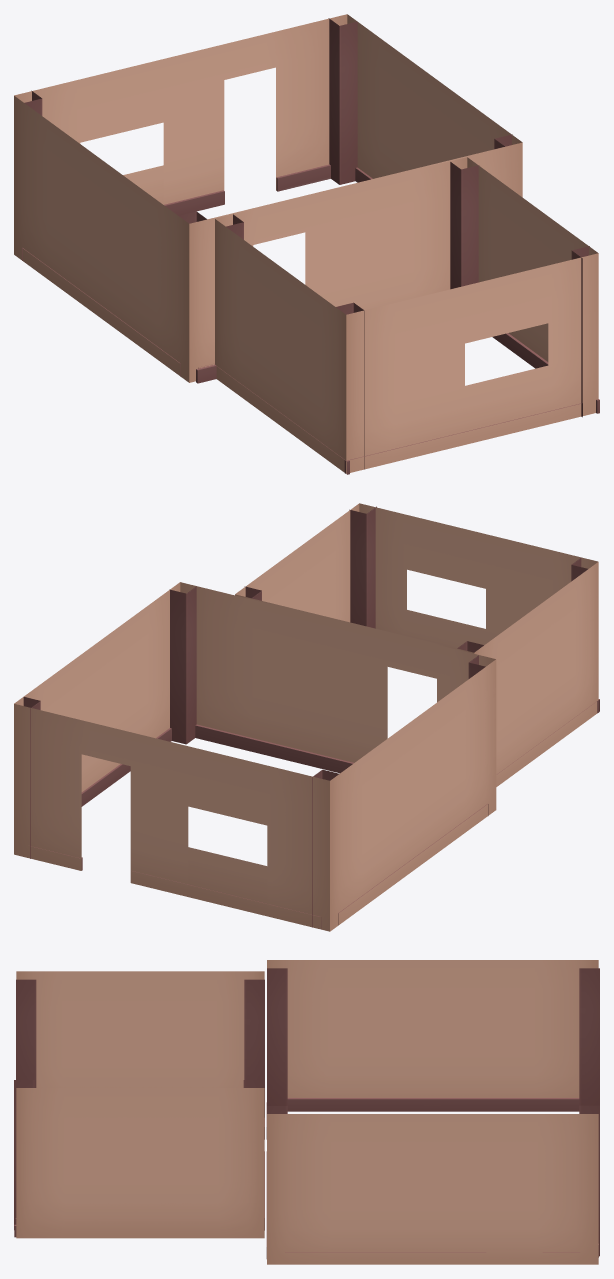
The model's file is Wall.fbx.
3 views of the same model, one above another, from view 1: azimuth 30°, elevation 25°; view 2: azimuth 150°, elevation 25°; view 3: azimuth 270°, elevation 25° (orthographic). The views are drawn at different scales.
Parts seen in each view (by area): view 1: polySurface3, polySurface4, polySurface16, polySurface12, polySurface25, polySurface19, polySurface10; view 2: polySurface4, polySurface3, polySurface17, polySurface11, polySurface22, polySurface98; view 3: polySurface4, polySurface3, polySurface21, polySurface15, polySurface18, polySurface9, polySurface5, polySurface11, polySurface16.
Part boxes in pixels (box(x1,y1,x2,y2)): polySurface3: box(215, 157, 598, 473); polySurface4: box(14, 14, 522, 382); polySurface16: box(328, 18, 357, 184); polySurface12: box(450, 162, 479, 289); polySurface25: box(276, 164, 330, 191); polySurface19: box(164, 190, 224, 215); polySurface10: box(492, 333, 599, 413); polySurface4: box(14, 582, 496, 931); polySurface3: box(235, 503, 598, 786); polySurface17: box(169, 586, 196, 744); polySurface11: box(349, 506, 376, 628); polySurface22: box(195, 724, 353, 773); polySurface98: box(81, 728, 171, 806); polySurface4: box(267, 960, 598, 1264); polySurface3: box(16, 971, 264, 1238); polySurface21: box(287, 1098, 579, 1111); polySurface15: box(579, 968, 599, 1105); polySurface18: box(267, 968, 287, 1105); polySurface9: box(244, 979, 264, 1117); polySurface5: box(16, 979, 36, 1087); polySurface11: box(14, 1080, 34, 1229); polySurface16: box(579, 1105, 599, 1256).
Bounding box in the file's own units: 64.22 × 29.19 × 103.
